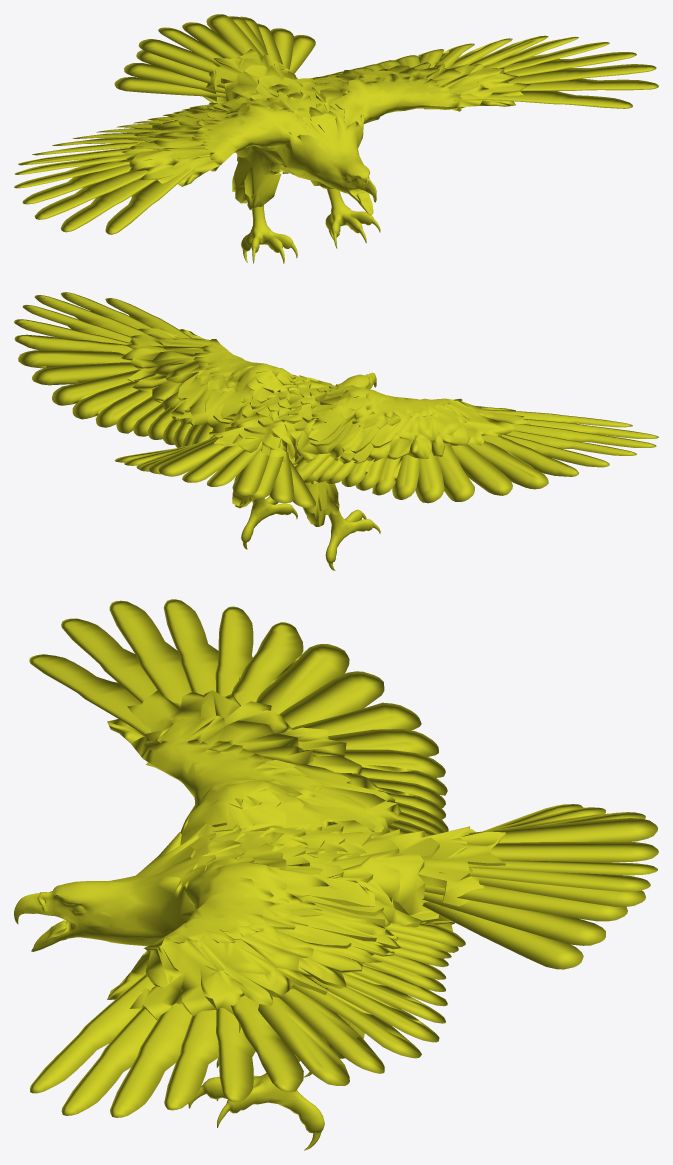
Rendered from Eagle.fbx.
3 renders of one model, top to bottom at view 1: azimuth 30°, elevation 25°; view 2: azimuth 150°, elevation 25°; view 3: azimuth 270°, elevation 25°, orthographic. The views are drawn at different scales.
Visible parts, largest first — view 1: IEAGLE1H; view 2: IEAGLE1H; view 3: IEAGLE1H.
Boxes of the visible parts, <box> form: IEAGLE1H: <box>14,14,658,263</box>; IEAGLE1H: <box>14,292,658,570</box>; IEAGLE1H: <box>14,599,658,1150</box>.
Size of the model in its own units: 7.61 by 1.99 by 4.01.
